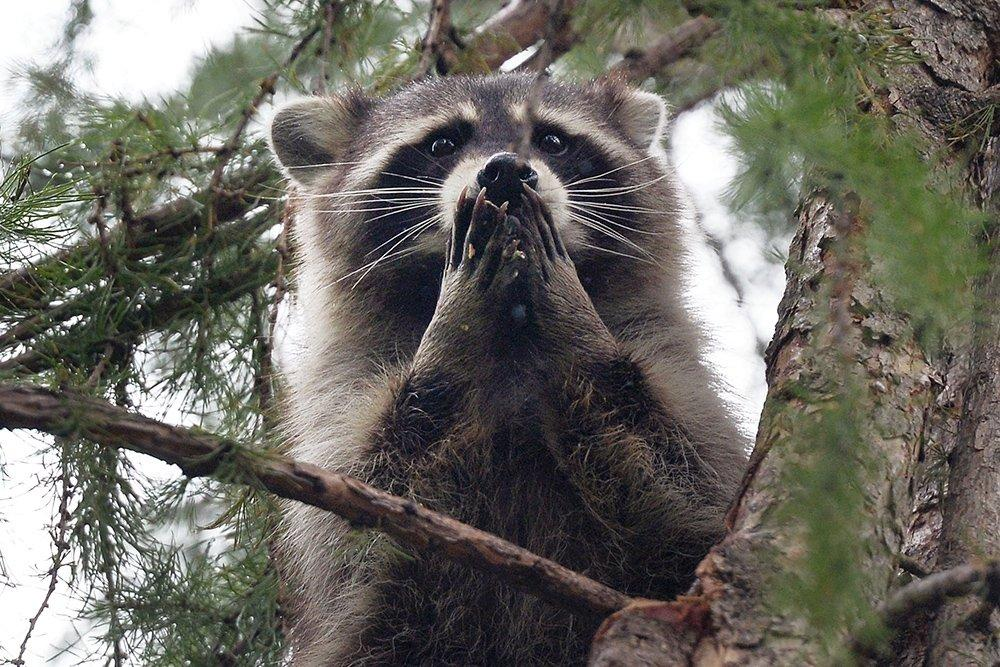raccoon: (257, 62, 732, 667)
